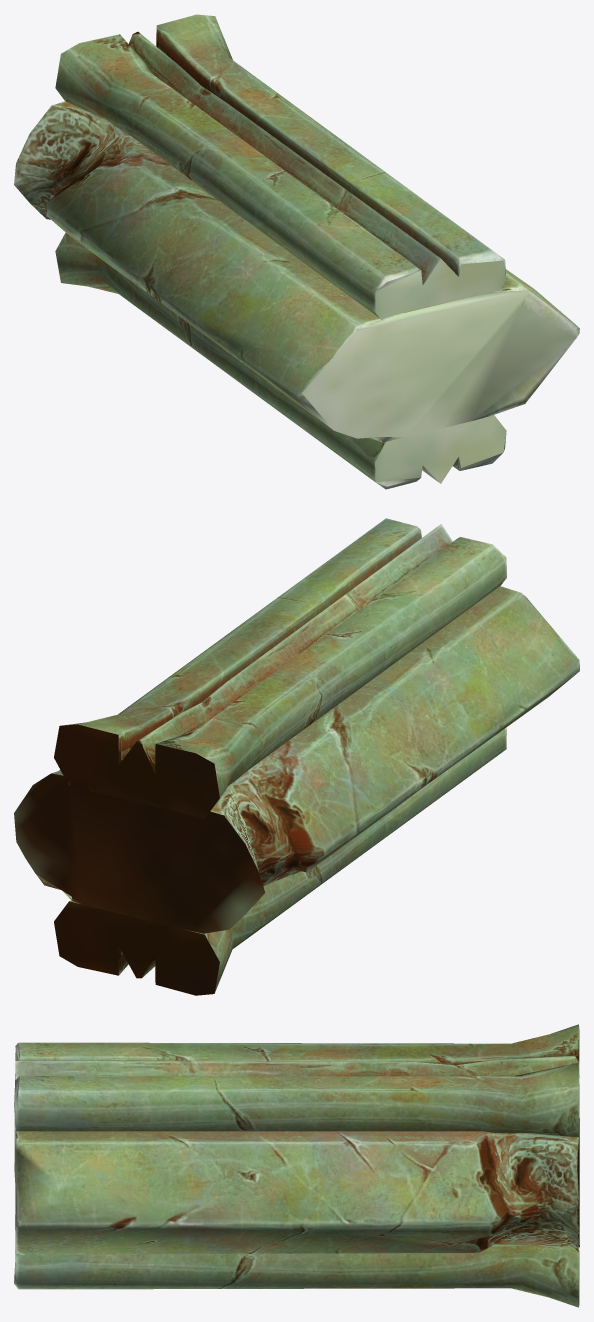
The model's file is Ruins_Collumn_8M_Base.fbx.
The picture shows the model from 3 angles, top to bottom: view 1: azimuth 30°, elevation 25°; view 2: azimuth 150°, elevation 25°; view 3: azimuth 270°, elevation 25°; orthographic projection. The views are drawn at different scales.
Visible parts, largest first — view 1: Ruins_Collumn_8M_Base; view 2: Ruins_Collumn_8M_Base; view 3: Ruins_Collumn_8M_Base.
Boxes of the visible parts, x1,y1,x2,y2 form: Ruins_Collumn_8M_Base: (14,14,579,489); Ruins_Collumn_8M_Base: (14,518,579,995); Ruins_Collumn_8M_Base: (14,1024,579,1307).
Size of the model in its own units: 431 by 351 by 802.
